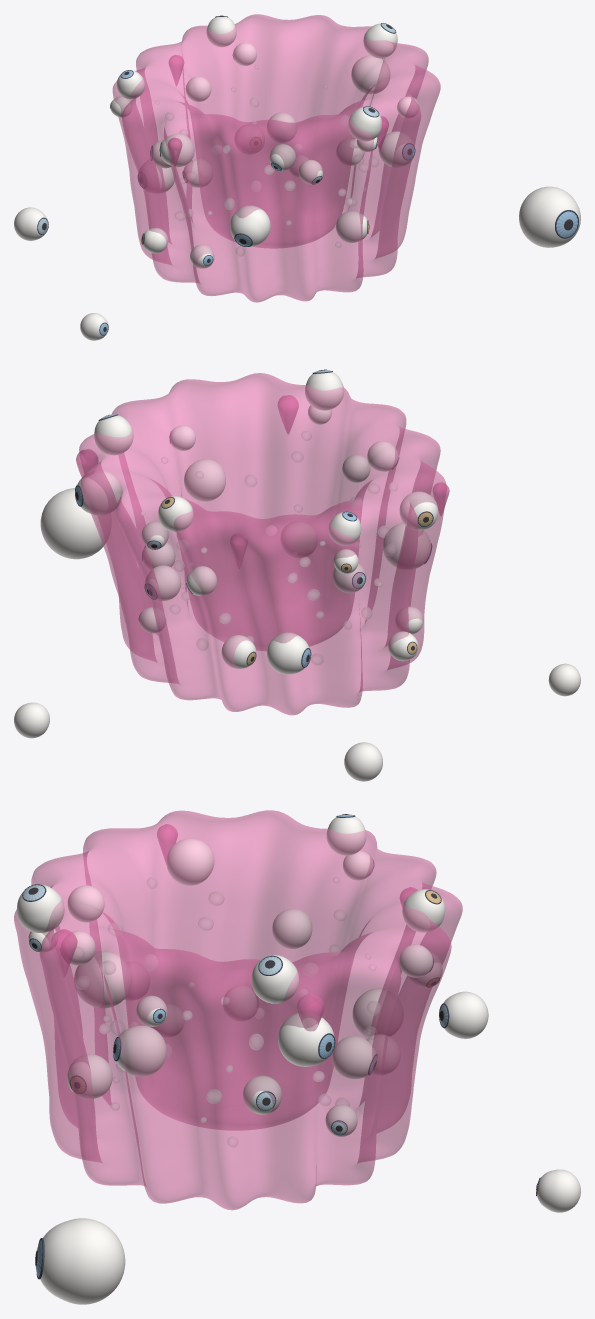
Rendered from alien_jello.glb.
3 renders of one model, top to bottom at view 1: azimuth 30°, elevation 25°; view 2: azimuth 150°, elevation 25°; view 3: azimuth 270°, elevation 25°, orthographic. The views are drawn at different scales.
Parts seen in each view (by area): view 1: Jelly_Body, Eye_Loose_01_Sclera, Eye_01_Sclera, Eye_07_Sclera, Eye_06_Sclera, Eye_Rim_01_Sclera, Eye_10_Sclera, Eye_09_Sclera, Eye_Rim_04_Sclera, Eye_Loose_02_Sclera, Eye_04_Sclera, Eye_Rim_02_Sclera (+11 smaller); view 2: Jelly_Body, Eye_Loose_01_Sclera, Eye_07_Sclera, Eye_01_Sclera, Eye_10_Sclera, Eye_04_Sclera, Eye_Rim_01_Sclera, Eye_Rim_04_Sclera, Eye_Loose_02_Sclera, Eye_09_Sclera, Eye_Loose_03_Sclera, Eye_06_Sclera (+14 smaller); view 3: Jelly_Body, Eye_Loose_01_Sclera, Eye_07_Sclera, Eye_01_Sclera, Eye_10_Sclera, Eye_04_Sclera, Eye_06_Sclera, Eye_Loose_02_Sclera, Eye_Rim_04_Sclera, Eye_Loose_03_Sclera, Eye_Rim_01_Sclera, Eye_02_Sclera (+15 smaller).
Part boxes in pixels (left/top/right/bottom): Jelly_Body: left=112, top=14, right=440, bottom=302; Eye_Loose_01_Sclera: left=519, top=186, right=580, bottom=247; Eye_01_Sclera: left=351, top=55, right=390, bottom=94; Eye_07_Sclera: left=230, top=205, right=270, bottom=246; Eye_06_Sclera: left=160, top=133, right=194, bottom=167; Eye_Rim_01_Sclera: left=363, top=23, right=397, bottom=58; Eye_10_Sclera: left=378, top=131, right=415, bottom=167; Eye_09_Sclera: left=336, top=211, right=368, bottom=242; Eye_Rim_04_Sclera: left=348, top=107, right=381, bottom=141; Eye_Loose_02_Sclera: left=14, top=207, right=47, bottom=240; Eye_04_Sclera: left=139, top=160, right=175, bottom=192; Eye_Rim_02_Sclera: left=206, top=17, right=236, bottom=47; Jelly_Body: left=79, top=373, right=446, bottom=715; Eye_Loose_01_Sclera: left=40, top=488, right=110, bottom=559; Eye_07_Sclera: left=382, top=523, right=430, bottom=568; Eye_01_Sclera: left=77, top=470, right=122, bottom=515; Eye_10_Sclera: left=184, top=459, right=225, bottom=501; Eye_04_Sclera: left=267, top=632, right=309, bottom=674; Eye_Rim_01_Sclera: left=94, top=415, right=133, bottom=455; Eye_Rim_04_Sclera: left=305, top=370, right=344, bottom=410; Eye_Loose_02_Sclera: left=344, top=742, right=382, bottom=781; Eye_09_Sclera: left=280, top=521, right=317, bottom=557; Eye_Loose_03_Sclera: left=14, top=702, right=49, bottom=738; Eye_06_Sclera: left=399, top=491, right=438, bottom=530; Jelly_Body: left=14, top=810, right=462, bottom=1210; Eye_Loose_01_Sclera: left=37, top=1218, right=125, bottom=1304; Eye_07_Sclera: left=74, top=951, right=131, bottom=1008; Eye_01_Sclera: left=278, top=1012, right=334, bottom=1066; Eye_10_Sclera: left=116, top=1025, right=166, bottom=1076; Eye_04_Sclera: left=352, top=988, right=402, bottom=1037; Eye_06_Sclera: left=166, top=838, right=214, bottom=885; Eye_Loose_02_Sclera: left=443, top=991, right=488, bottom=1038; Eye_Rim_04_Sclera: left=16, top=885, right=64, bottom=932; Eye_Loose_03_Sclera: left=537, top=1169, right=580, bottom=1212; Eye_Rim_01_Sclera: left=251, top=955, right=299, bottom=1003; Eye_02_Sclera: left=332, top=1036, right=375, bottom=1078.
Bounding box in the file's own units: 0.321 × 0.1266 × 0.2342.
